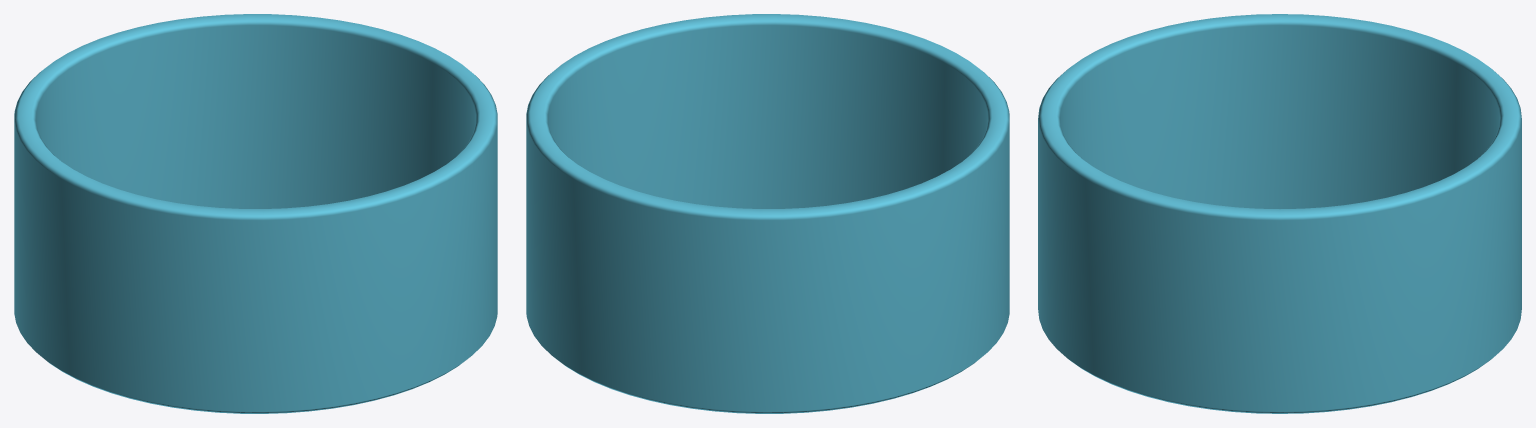
3 renders of one model, left to right at view 1: azimuth 30°, elevation 25°; view 2: azimuth 150°, elevation 25°; view 3: azimuth 270°, elevation 25°, orthographic.
Visible parts, largest first — view 1: seal_body; view 2: seal_body; view 3: seal_body.
Boxes of the visible parts, x1,y1,x2,y2 form: seal_body: [14, 14, 497, 413]; seal_body: [526, 14, 1009, 413]; seal_body: [1038, 14, 1521, 413].
Bounding box in the file's own units: 0.0349 × 0.0159 × 0.0349.
